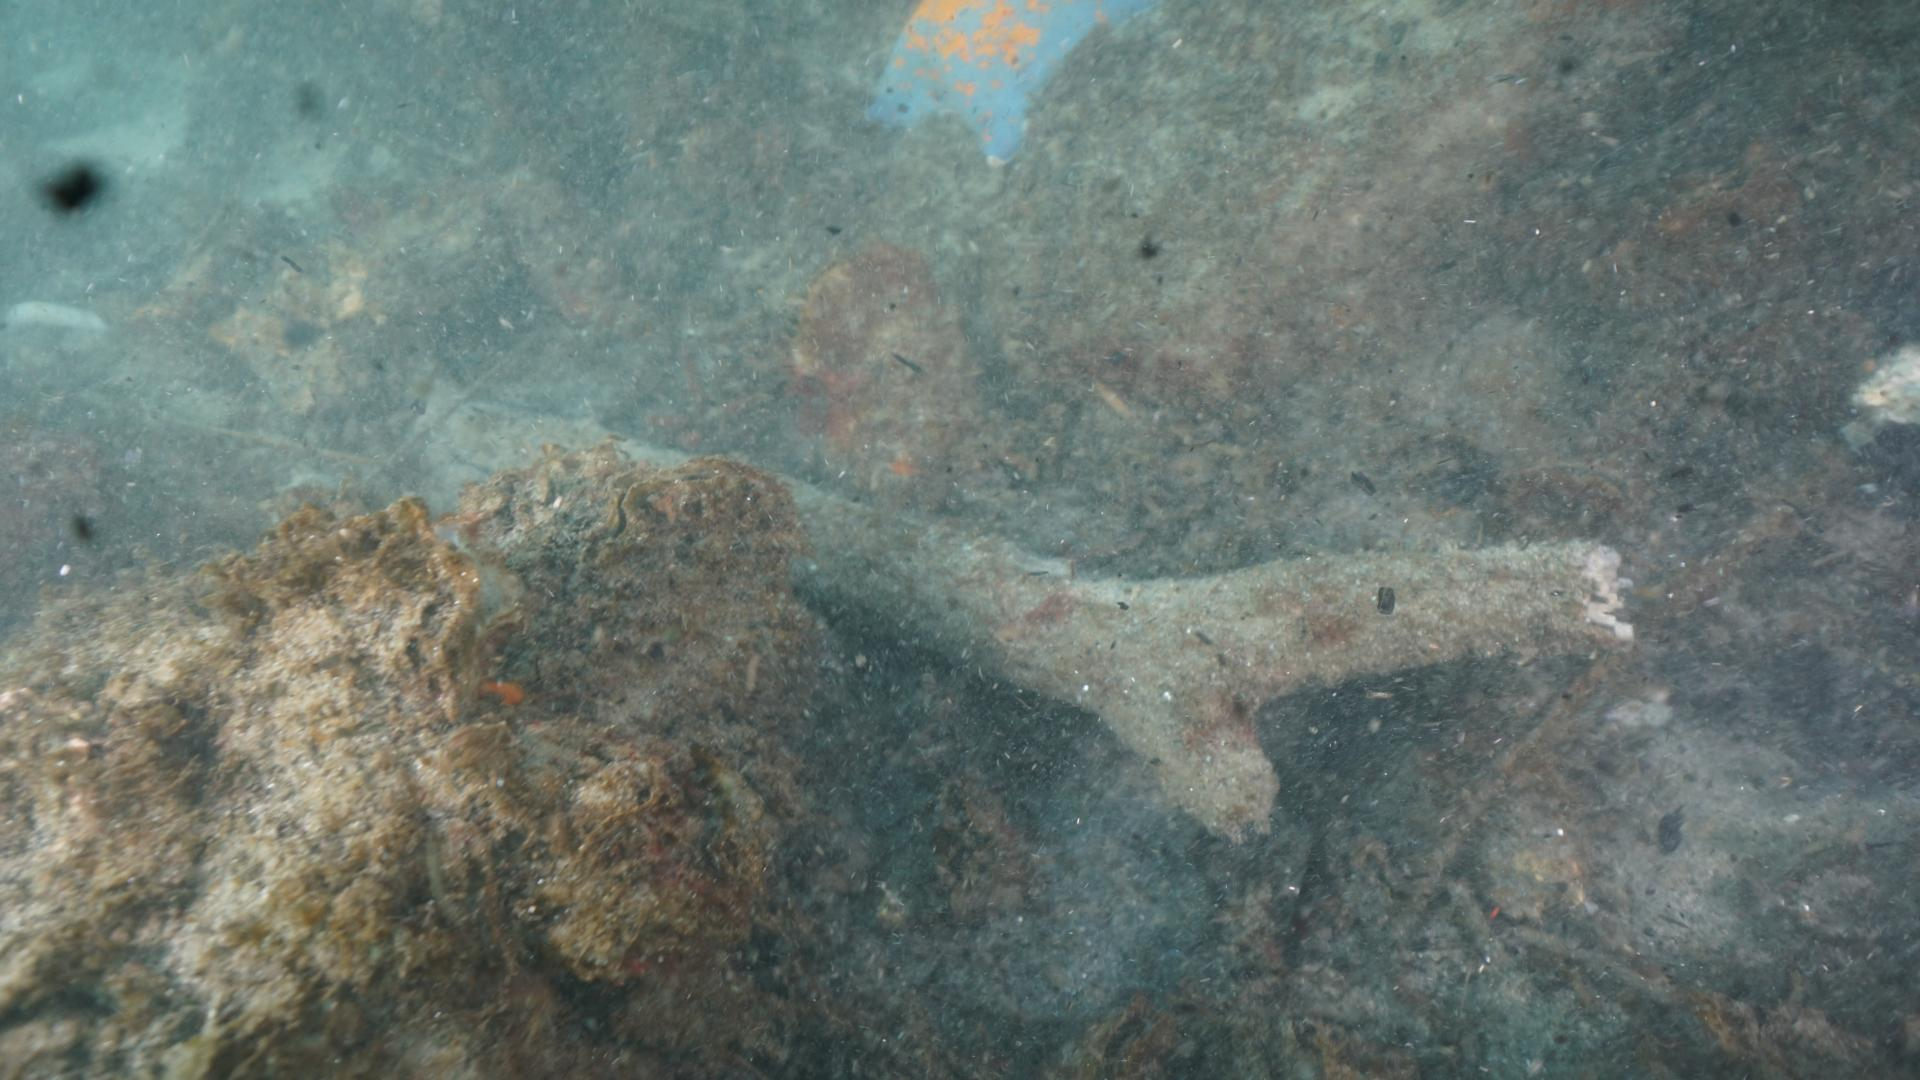wood: (0, 324, 1635, 844)
